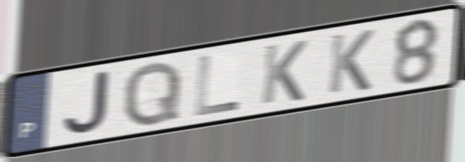8: (391, 17, 443, 88)
J: (61, 68, 112, 137)
K: (258, 37, 310, 107), (325, 27, 377, 96)
L: (193, 53, 242, 119)
Q: (120, 58, 184, 130)
